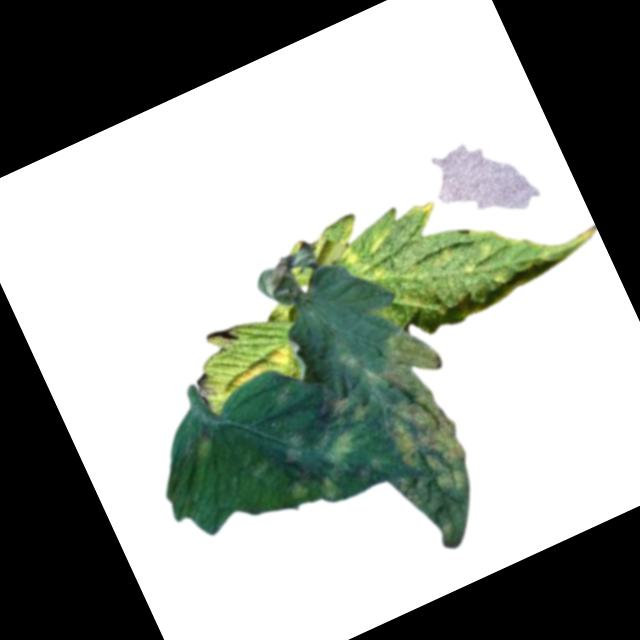Leaf_Mold: (316, 123, 607, 361), (335, 317, 515, 561), (251, 370, 397, 520), (207, 341, 301, 411)
